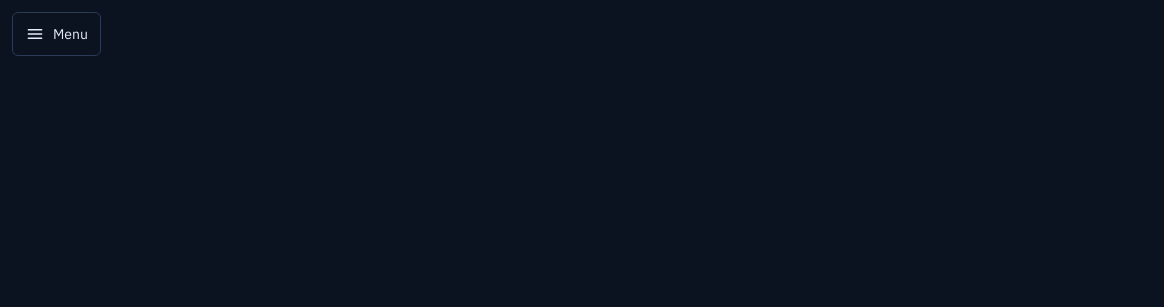
Test: HeaderMenu › keeps the menu open and shows an error if the reset fails
Click the button "Menu" at (56, 34), box left=12, top=12, right=101, bottom=56
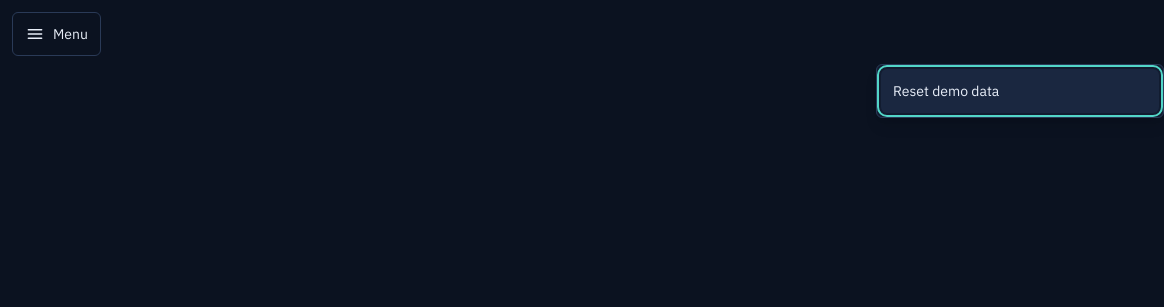
Click the menu item "Reset demo data" at (946, 91), box left=881, top=69, right=1159, bottom=113
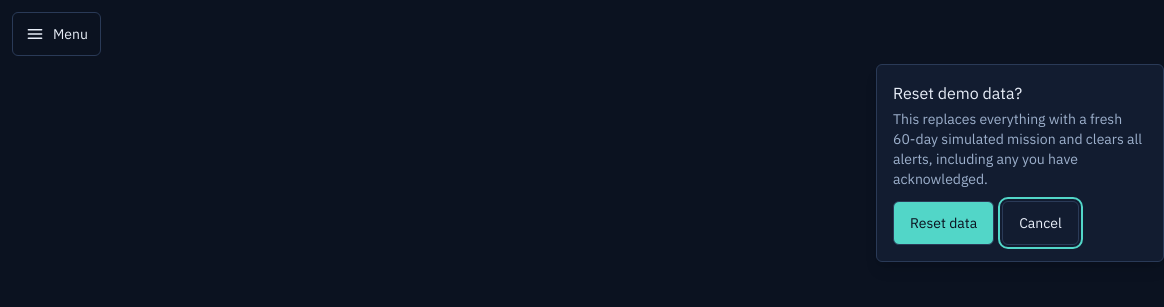
Click the button "Reset data" at (944, 223), box left=893, top=201, right=994, bottom=245
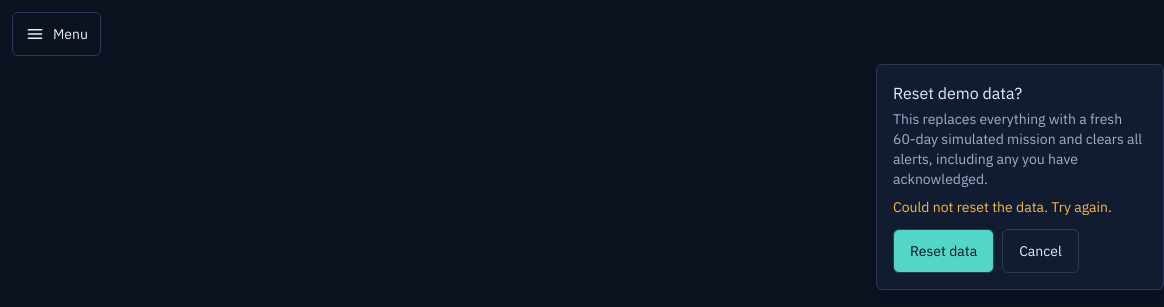
Expected: the button "Reset data" is enabled, left=893, top=229, right=994, bottom=273
Expected: the message shows "Could not reset the data", left=893, top=198, right=1112, bottom=216
